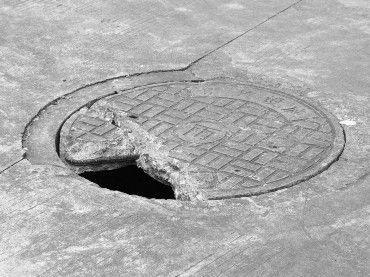wellcover: (51, 75, 356, 207)
